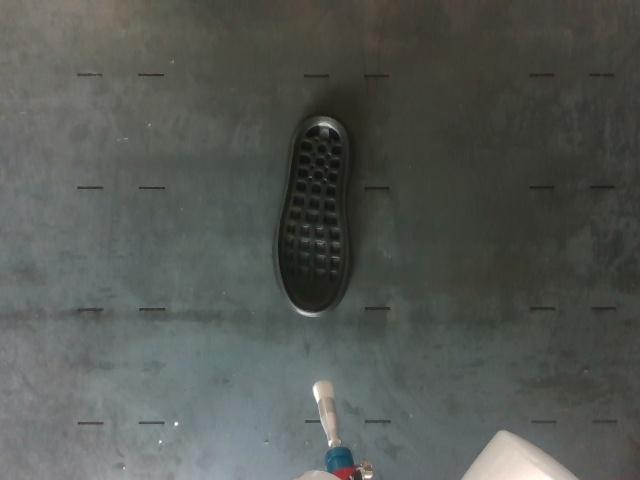shoes: (277, 117, 347, 313)
